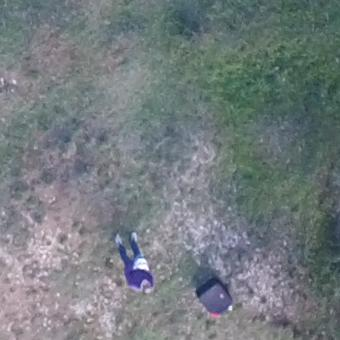human: (110, 229, 156, 293)
